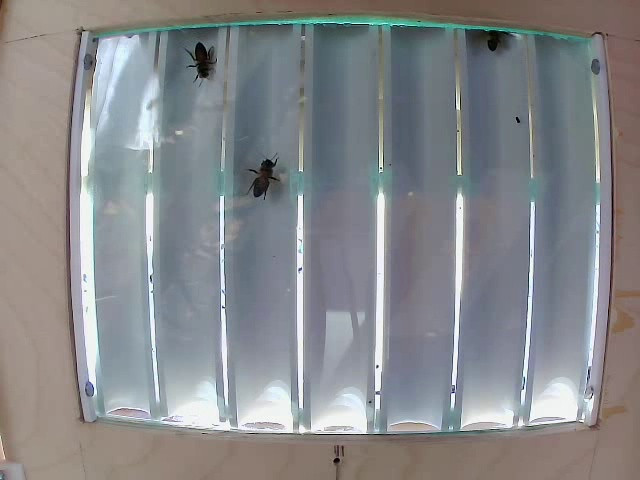bee: (249, 158, 292, 224), (182, 42, 213, 88)
